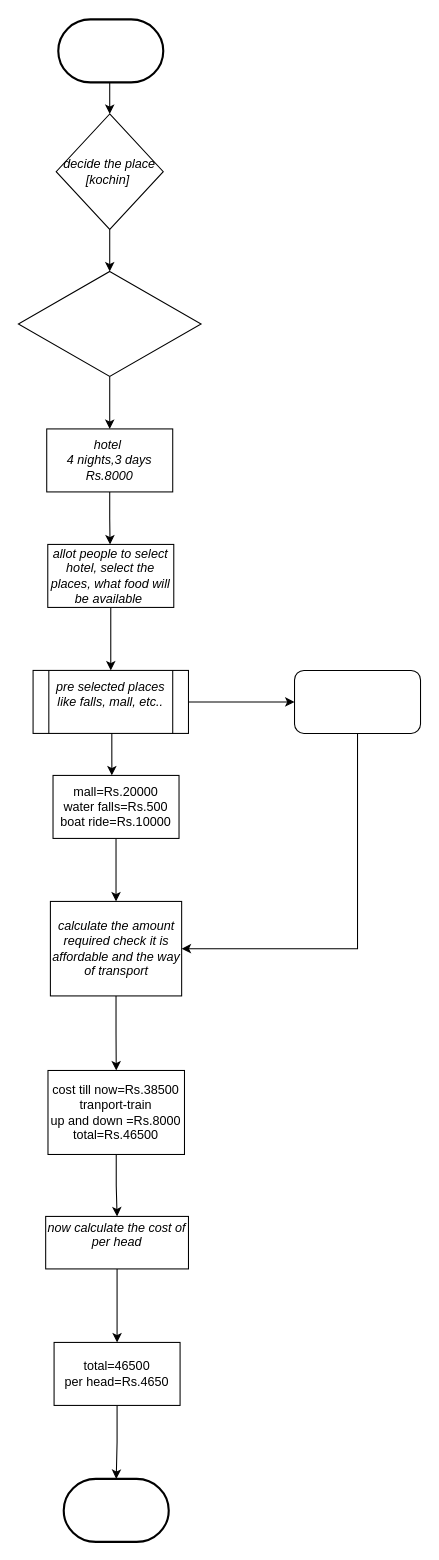
This 439x1560 diagram has some shape labels left out. The shapes that lost their labels are listed below. From the top down, each one's centre as x and y in pixels, then its label:
At pixel 110 50: "start".
At pixel 109 323: "select the hotel to stay and how many day, nights".
At pixel 357 701: "alternate places if pre planned places are closed or something".
At pixel 115 1509: "stop".
